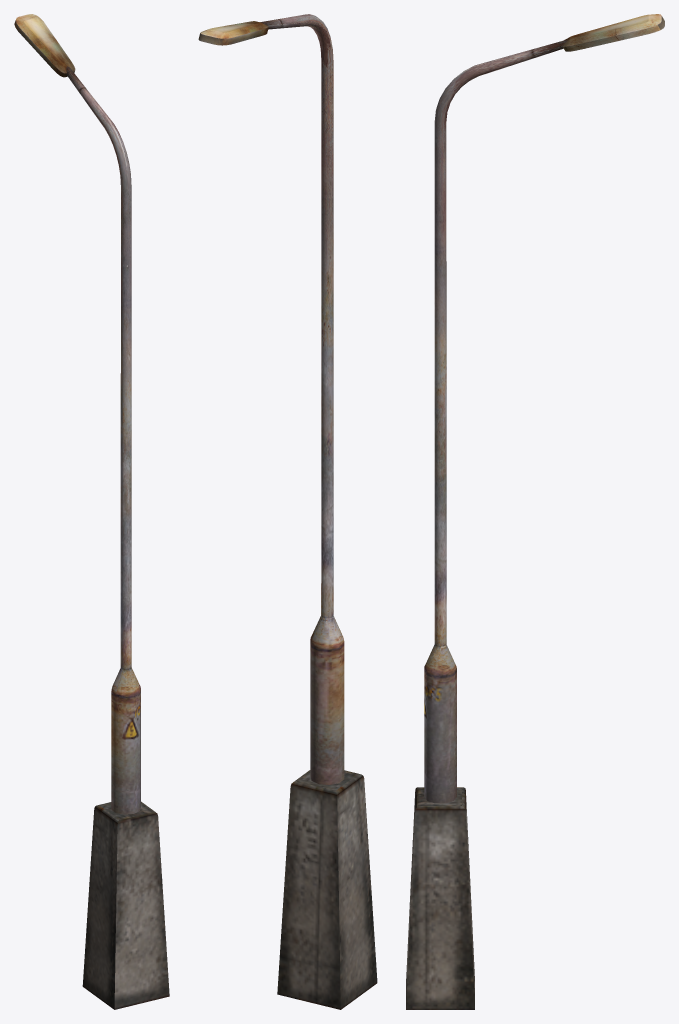
The model's file is LampPostSmall_Floor_ALL.FBX.
The picture shows the model from 3 angles, left to right: view 1: azimuth 30°, elevation 25°; view 2: azimuth 150°, elevation 25°; view 3: azimuth 270°, elevation 25°; orthographic projection. The views are drawn at different scales.
Visible parts, largest first — view 1: StreetLampSmall_LOD0; view 2: StreetLampSmall_LOD0; view 3: StreetLampSmall_LOD0.
Part boxes in pixels (x1,y1,x2,y2): StreetLampSmall_LOD0: (14, 14, 169, 1009); StreetLampSmall_LOD0: (198, 14, 377, 1009); StreetLampSmall_LOD0: (406, 14, 664, 1009).
Size of what is drawn, in the model's own units: 587 by 9172 by 2202.
